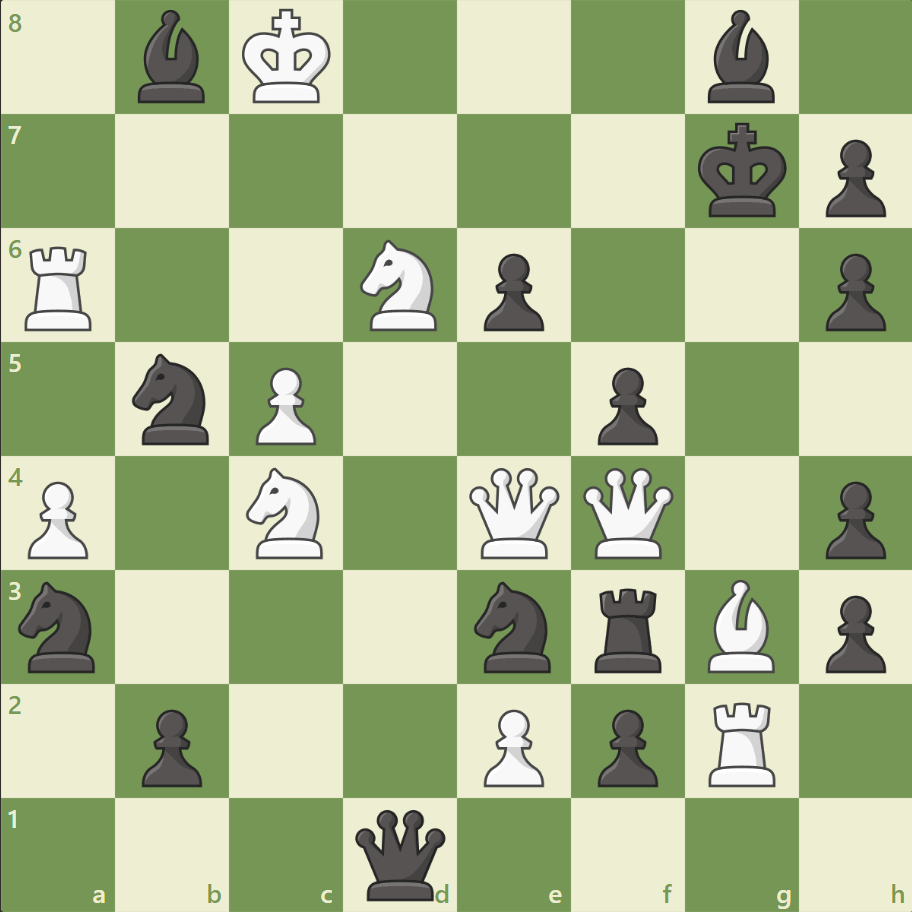B: (698, 574, 782, 676)
K: (238, 4, 338, 112)
N: (351, 234, 449, 337), (238, 461, 335, 564)
P: (247, 359, 322, 450), (20, 473, 95, 564), (474, 700, 549, 791)
Q: (464, 463, 563, 562), (578, 463, 677, 562)
R: (19, 239, 102, 336), (700, 693, 783, 790)
b: (131, 6, 215, 109), (698, 6, 782, 109)
k: (692, 117, 792, 225)
n: (124, 348, 222, 450), (11, 575, 108, 677), (465, 575, 562, 677)
p: (474, 246, 549, 337), (133, 700, 208, 791), (815, 132, 889, 223), (815, 246, 889, 337), (588, 359, 662, 450), (815, 473, 889, 564), (815, 586, 889, 677), (588, 700, 662, 791)
q: (351, 804, 450, 903)
r: (587, 579, 670, 676)
